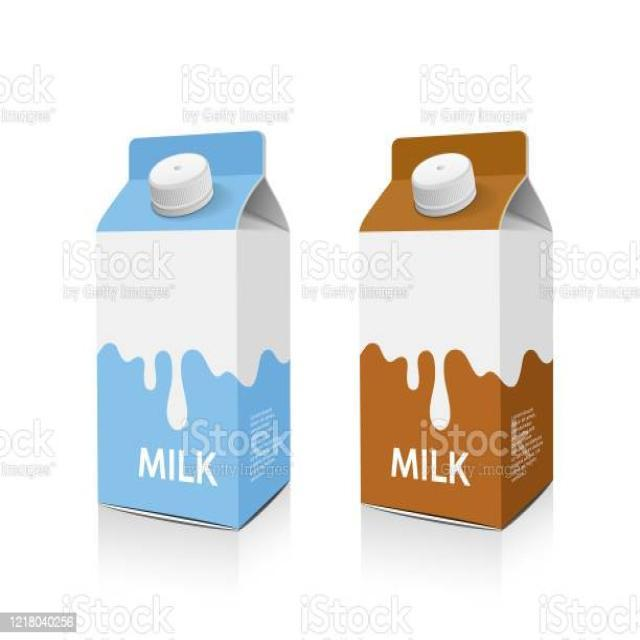Carton: (84, 123, 310, 539), (338, 127, 565, 541)
